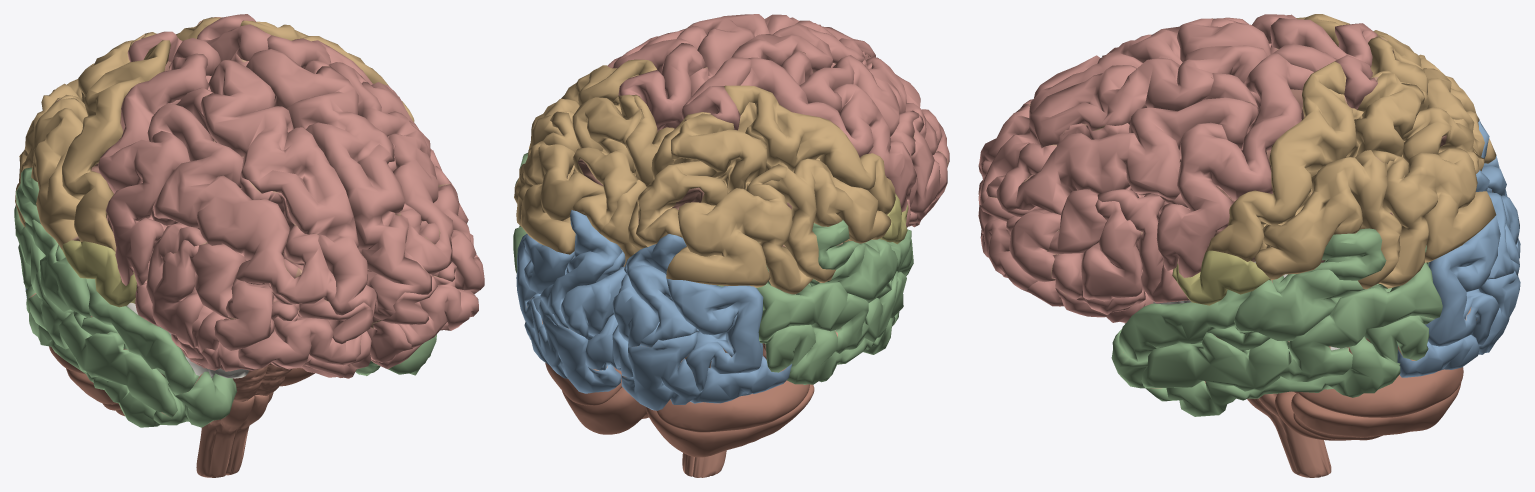
The model's file is nerves-brain.glb.
3 renders of one model, left to right at view 1: azimuth 30°, elevation 25°; view 2: azimuth 150°, elevation 25°; view 3: azimuth 270°, elevation 25°, orthographic. The views are drawn at different scales.
Visible parts, largest first — view 1: nerve-middle-frontal-gyrus-r, nerve-superior-frontal-gyrus-l, nerve-superior-frontal-gyrus-r, nerve-precentral-gyrus-r, nerve-middle-frontal-gyrus-l, nerve-postcentral-gyrus-r, nerve-middle-temporal-gyrus-r, nerve-superior-temporal-gyrus-lateral-part-r, nerve-supramarginal-gyrus-r, nerve-orbital-gyri-frontomarginal-gyrus-and-sulcus-r, nerve-triangular-part-of-inferior-frontal-gyrus-r, nerve-inferior-frontal-sulcus-r (+27 smaller); view 2: nerve-angular-gyrus-r, nerve-superior-parietal-lobule-r, nerve-postcentral-gyrus-r, nerve-supramarginal-gyrus-r, nerve-angular-gyrus-l, nerve-lateral-occipital-gyrus-middle-occipital-gyrus-r, nerve-precentral-gyrus-r, nerve-middle-temporal-gyrus-r, nerve-superior-parietal-lobule-l, nerve-middle-frontal-gyrus-r, nerve-inferior-temporal-gyrus-r, nerve-superior-semilunar-lobule-r (+32 smaller); view 3: nerve-middle-frontal-gyrus-l, nerve-precentral-gyrus-l, nerve-middle-temporal-gyrus-l, nerve-superior-frontal-gyrus-l, nerve-postcentral-gyrus-l, nerve-superior-temporal-gyrus-lateral-part-l, nerve-supramarginal-gyrus-l, nerve-angular-gyrus-l, nerve-inferior-temporal-gyrus-l, nerve-superior-frontal-gyrus-r, nerve-superior-parietal-lobule-l, nerve-lateral-occipital-gyrus-middle-occipital-gyrus-l (+26 smaller).
Part boxes in pixels (<box>): nerve-middle-frontal-gyrus-r: <box>147,103,336,350</box>; nerve-superior-frontal-gyrus-l: <box>230,49,431,328</box>; nerve-superior-frontal-gyrus-r: <box>200,59,376,320</box>; nerve-precentral-gyrus-r: <box>98,53,208,285</box>; nerve-middle-frontal-gyrus-l: <box>328,62,484,291</box>; nerve-postcentral-gyrus-r: <box>62,40,170,251</box>; nerve-middle-temporal-gyrus-r: <box>14,205,177,418</box>; nerve-superior-temporal-gyrus-lateral-part-r: <box>25,219,199,395</box>; nerve-supramarginal-gyrus-r: <box>15,97,87,249</box>; nerve-orbital-gyri-frontomarginal-gyrus-and-sulcus-r: <box>238,308,361,369</box>; nerve-triangular-part-of-inferior-frontal-gyrus-r: <box>152,240,203,348</box>; nerve-inferior-frontal-sulcus-r: <box>151,207,246,319</box>; nerve-angular-gyrus-r: <box>666,164,812,294</box>; nerve-superior-parietal-lobule-r: <box>636,113,766,246</box>; nerve-postcentral-gyrus-r: <box>724,85,895,214</box>; nerve-supramarginal-gyrus-r: <box>762,158,891,282</box>; nerve-angular-gyrus-l: <box>516,111,604,254</box>; nerve-lateral-occipital-gyrus-middle-occipital-gyrus-r: <box>666,278,763,391</box>; nerve-precentral-gyrus-r: <box>740,57,916,211</box>; nerve-middle-temporal-gyrus-r: <box>756,271,906,353</box>; nerve-superior-parietal-lobule-l: <box>571,94,644,232</box>; nerve-middle-frontal-gyrus-r: <box>799,55,949,167</box>; nerve-inferior-temporal-gyrus-r: <box>759,316,895,384</box>; nerve-superior-semilunar-lobule-r: <box>656,380,809,432</box>; nerve-middle-frontal-gyrus-l: <box>986,97,1258,282</box>; nerve-precentral-gyrus-l: <box>1156,52,1313,277</box>; nerve-middle-temporal-gyrus-l: <box>1141,262,1442,391</box>; nerve-superior-frontal-gyrus-l: <box>978,45,1267,205</box>; nerve-postcentral-gyrus-l: <box>1205,61,1356,262</box>; nerve-superior-temporal-gyrus-lateral-part-l: <box>1119,269,1364,362</box>; nerve-supramarginal-gyrus-l: <box>1254,150,1401,289</box>; nerve-angular-gyrus-l: <box>1371,148,1496,288</box>; nerve-inferior-temporal-gyrus-l: <box>1166,315,1434,416</box>; nerve-superior-frontal-gyrus-r: <box>978,18,1278,180</box>; nerve-superior-parietal-lobule-l: <box>1354,73,1484,173</box>; nerve-lateral-occipital-gyrus-middle-occipital-gyrus-l: <box>1424,215,1500,346</box>.
Bounding box in the file's own units: 0.1378 × 0.1608 × 0.1807.
